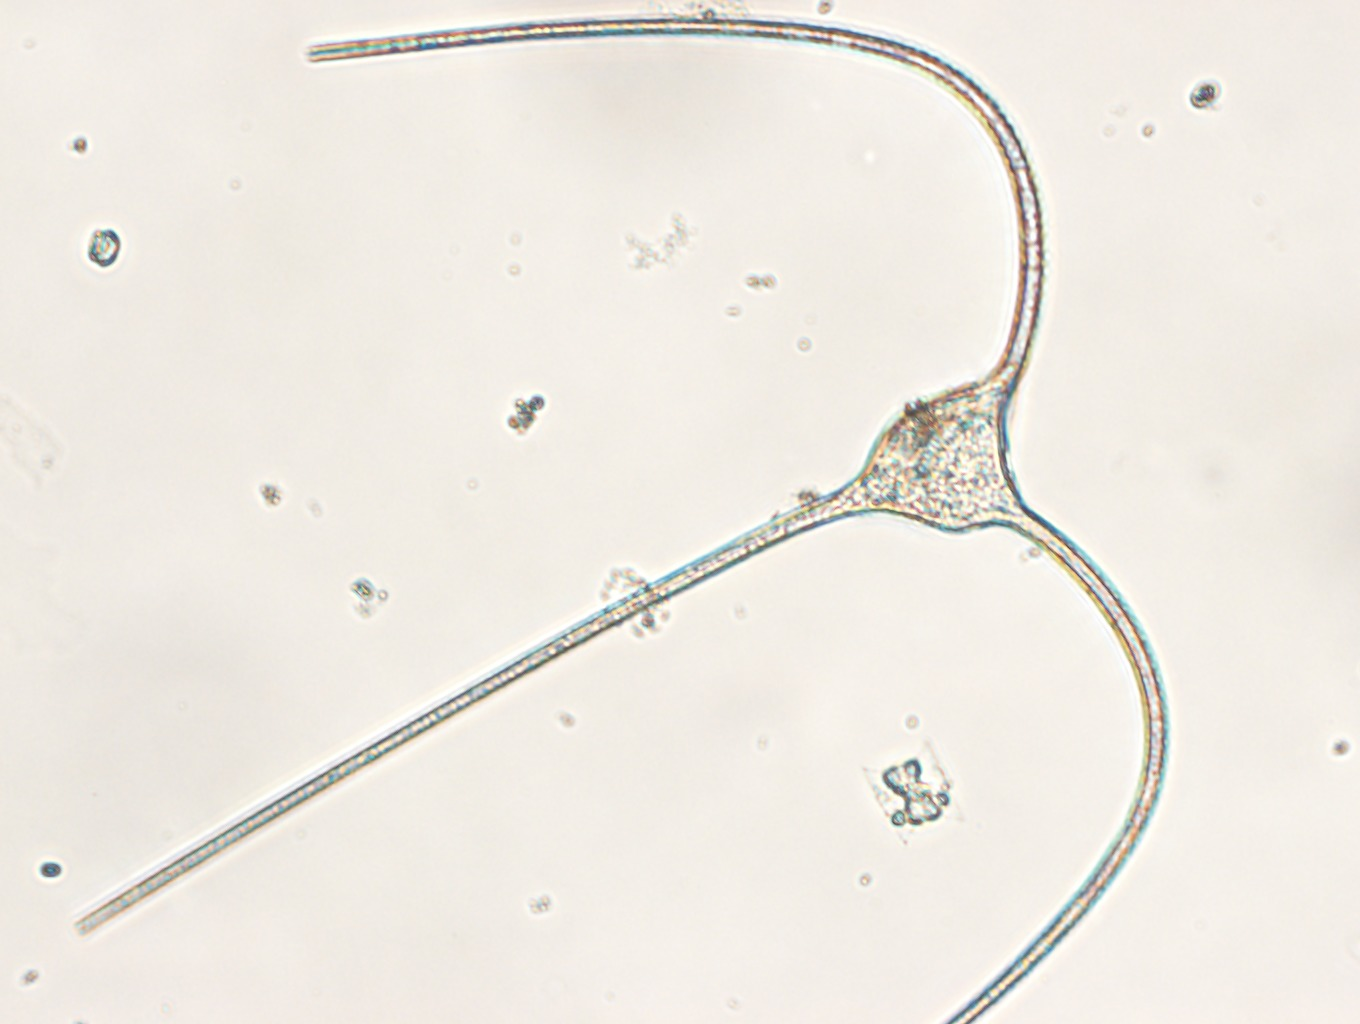ceratium trichoceros: (78, 15, 1169, 1023)
